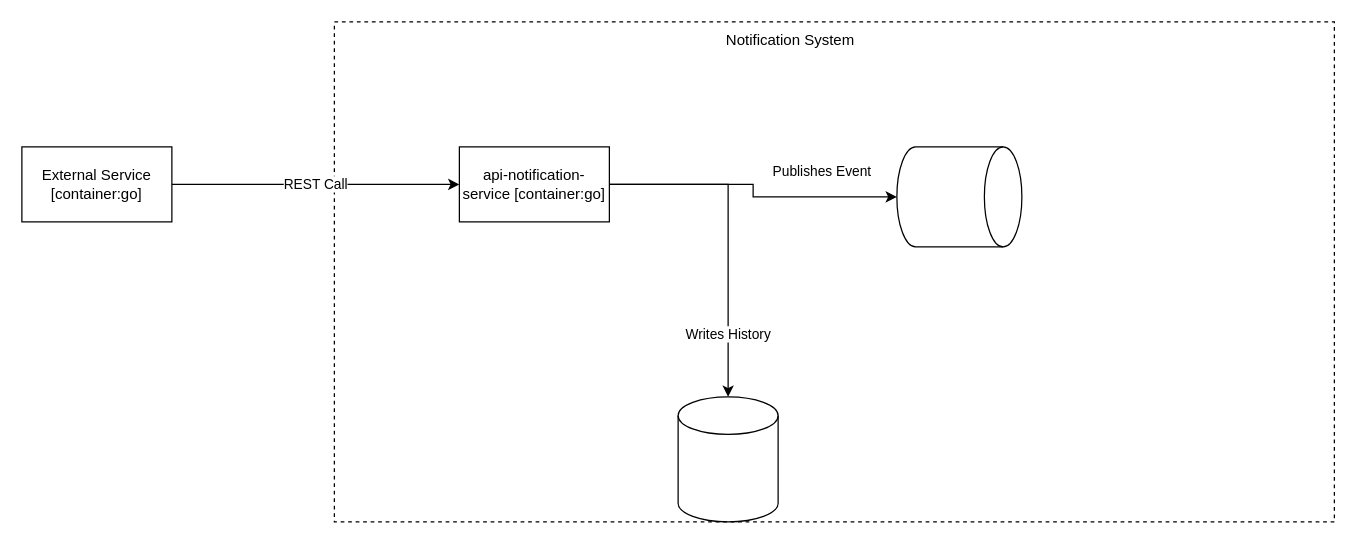
Some shapes in this 1356 by 544 pixel diagram are drawn without their labels. Here are the shapes that lost their labels. From the top down, the box of each, then its label:
(896, 146, 1022, 247): Notification Bus [Kafka]
(677, 396, 778, 522): Notification History DB [Postgresql]
